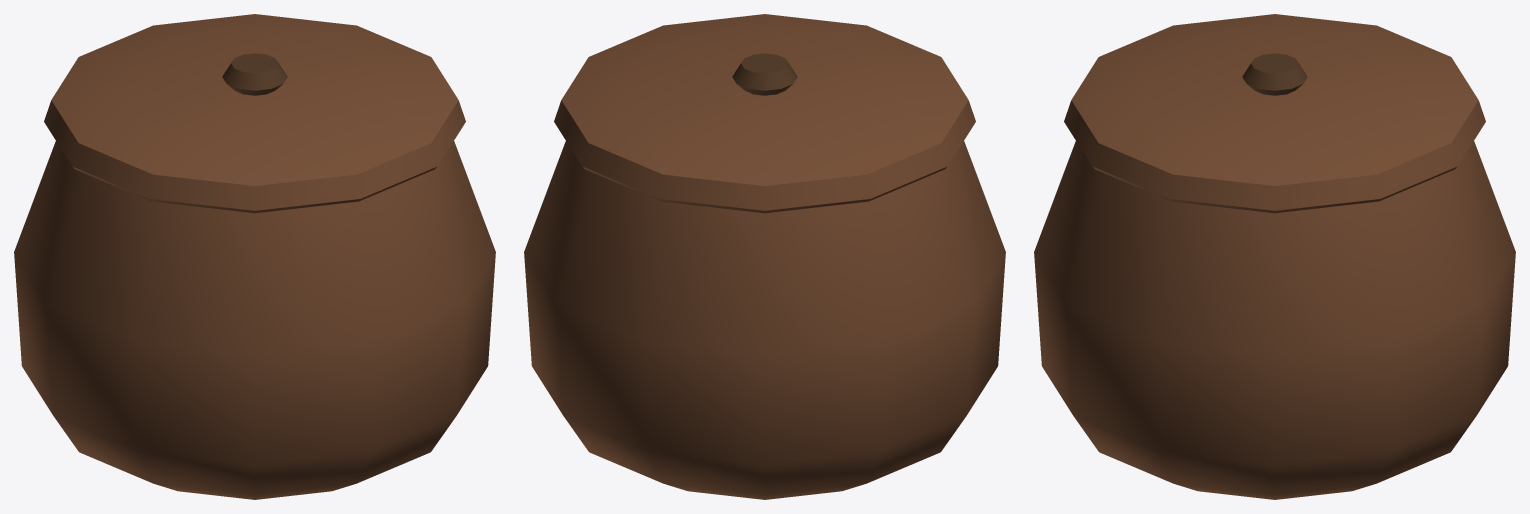
Rendered from Jar_1.fbx.
The picture shows the model from 3 angles, left to right: view 1: azimuth 30°, elevation 25°; view 2: azimuth 150°, elevation 25°; view 3: azimuth 270°, elevation 25°; orthographic projection.
Visible parts, largest first — view 1: Jar_1; view 2: Jar_1; view 3: Jar_1.
Part boxes in pixels (x1=…): Jar_1: x1=14, y1=14, x2=495, y2=499; Jar_1: x1=524, y1=14, x2=1005, y2=499; Jar_1: x1=1034, y1=14, x2=1515, y2=499.
Size of the model in its own units: 39.87 by 33.9 by 39.87.
